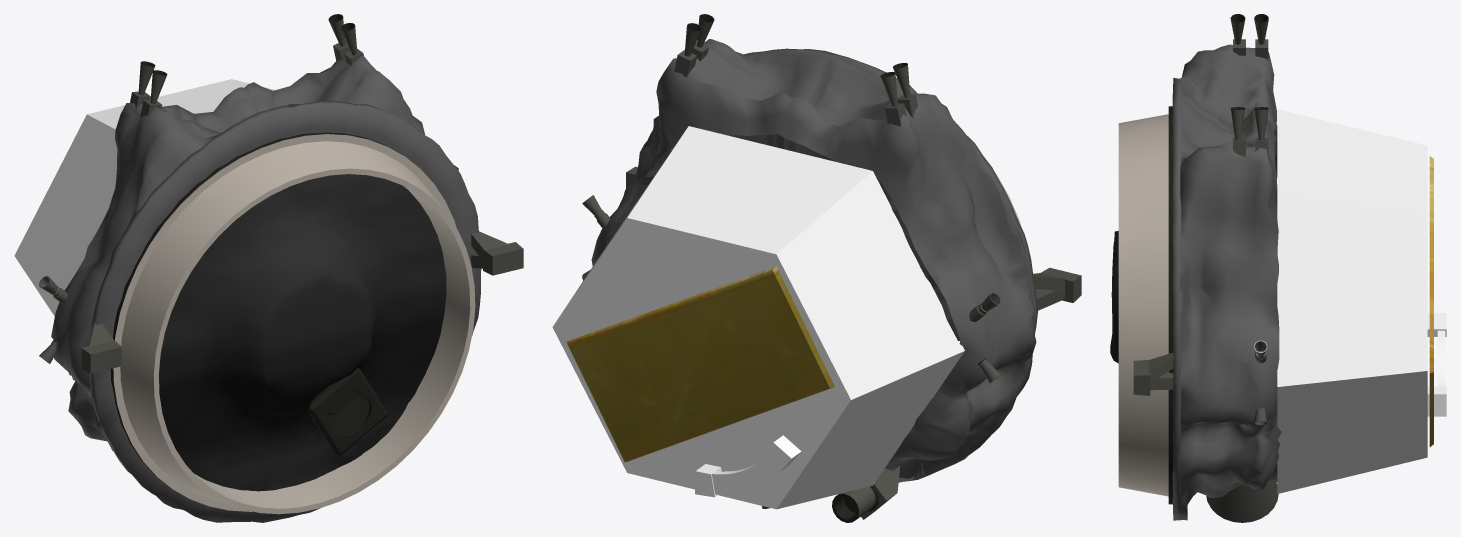
Rendered from space-deep-impact.glb.
3 views of the same model, side by side, from view 1: azimuth 30°, elevation 25°; view 2: azimuth 150°, elevation 25°; view 3: azimuth 270°, elevation 25° (orthographic). The views are drawn at different scales.
Parts seen in each view (by area): view 1: foil_silver_I, tex_01_I, black_krinkle_I, aluminum_I; view 2: aluminum_I, black_krinkle_I, tex_01_I; view 3: aluminum_I, black_krinkle_I, tex_01_I, foil_silver_I.
Boxes of the visible parts, bbox=[...] form: foil_silver_I: bbox=[159, 174, 446, 491]; tex_01_I: bbox=[39, 14, 523, 514]; black_krinkle_I: bbox=[51, 55, 481, 522]; aluminum_I: bbox=[14, 79, 275, 316]; aluminum_I: bbox=[552, 126, 964, 509]; black_krinkle_I: bbox=[591, 39, 1037, 482]; tex_01_I: bbox=[566, 14, 1081, 522]; aluminum_I: bbox=[1277, 109, 1446, 493]; black_krinkle_I: bbox=[1172, 44, 1281, 520]; tex_01_I: bbox=[1118, 14, 1433, 522]; foil_silver_I: bbox=[1110, 231, 1118, 363].
Size of the model in its own units: 1.25 by 1.25 by 0.8549.
Materials: 4 (2 with a texture image).
